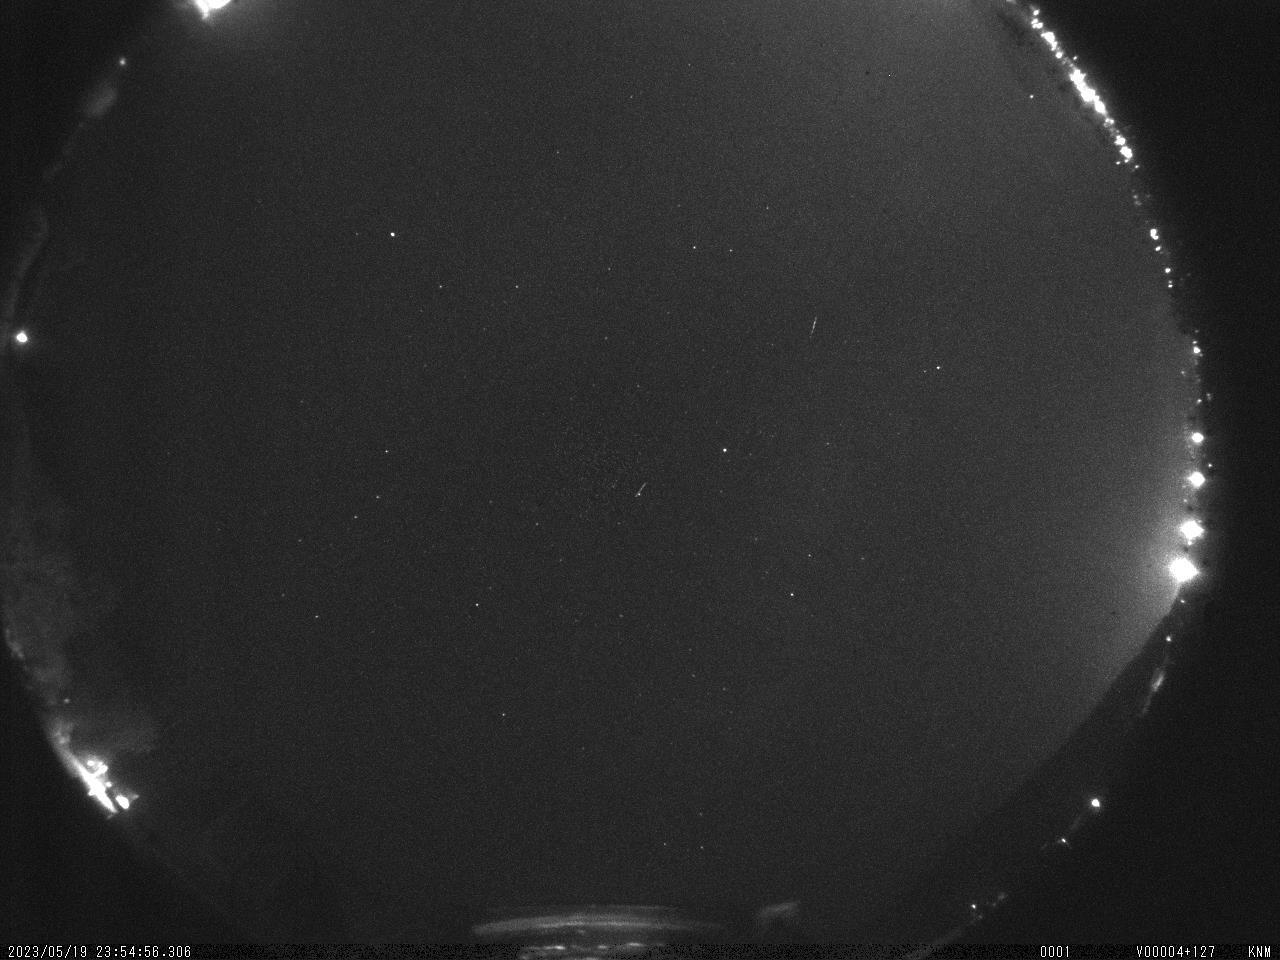Meteor: (802, 309, 825, 348)
